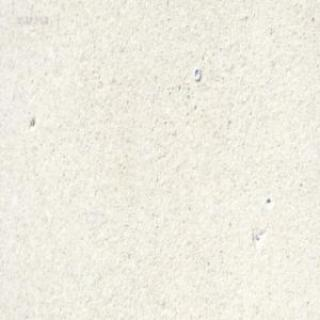Washertrack_idkeyframe: (192, 64, 200, 80)
